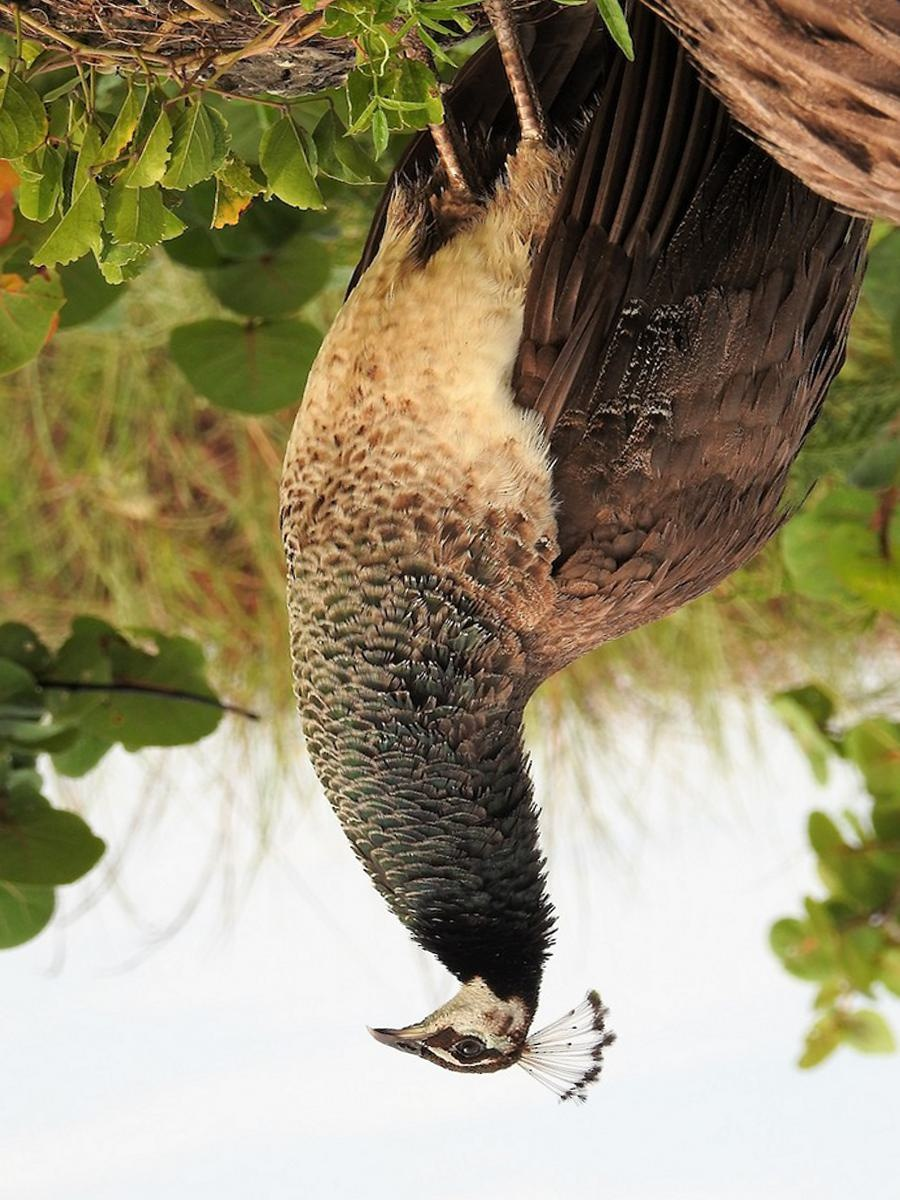peacock: (299, 150, 854, 1120)
